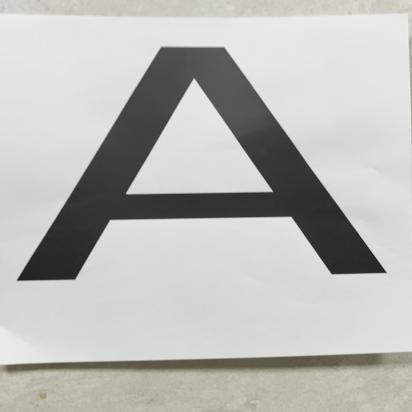seat: (27, 52, 412, 320)
